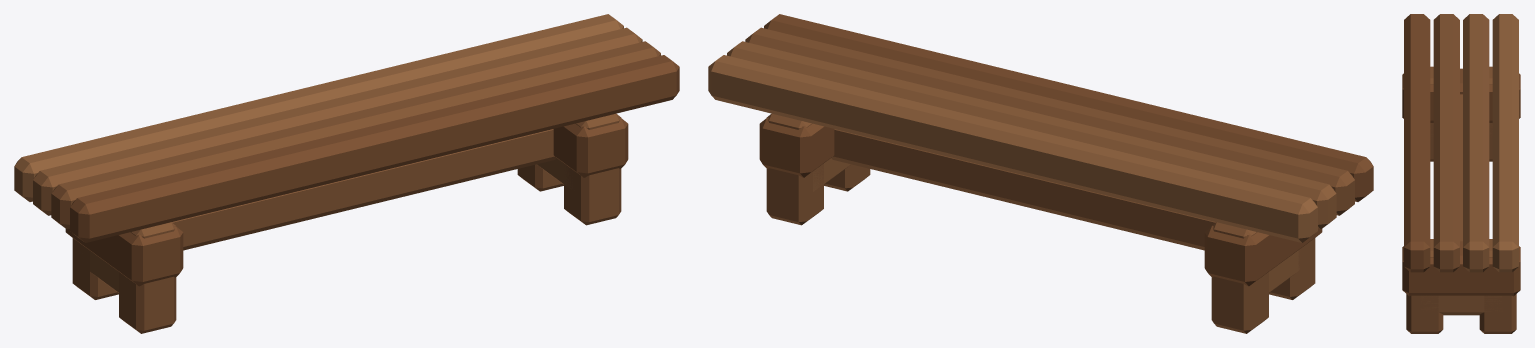
The model's file is PROP_05_WoodenBench.glb.
3 renders of one model, left to right at view 1: azimuth 30°, elevation 25°; view 2: azimuth 150°, elevation 25°; view 3: azimuth 270°, elevation 25°, orthographic. The views are drawn at different scales.
Parts seen in each view (by area): view 1: PROP_05_WoodenBench; view 2: PROP_05_WoodenBench; view 3: PROP_05_WoodenBench.
Boxes of the visible parts, left/top/right/bottom form: PROP_05_WoodenBench: left=14, top=14, right=679, bottom=333; PROP_05_WoodenBench: left=708, top=14, right=1373, bottom=333; PROP_05_WoodenBench: left=1402, top=14, right=1520, bottom=333.
Bounding box in the file's own units: 2.1 × 0.48 × 0.45.
